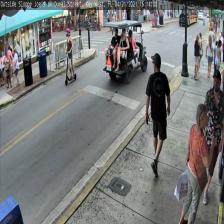person: (145, 53, 170, 176)
